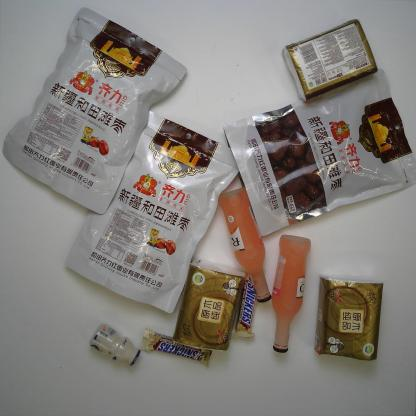Alcohol: (217, 185, 276, 303), (267, 233, 314, 354)
Chocolate: (139, 328, 214, 366), (232, 274, 261, 344)
Dried Food: (1, 4, 192, 215), (62, 110, 250, 317), (222, 67, 416, 240)
Milk: (89, 322, 143, 370)
Tissue: (282, 15, 384, 110), (170, 258, 245, 352), (316, 275, 384, 363)
